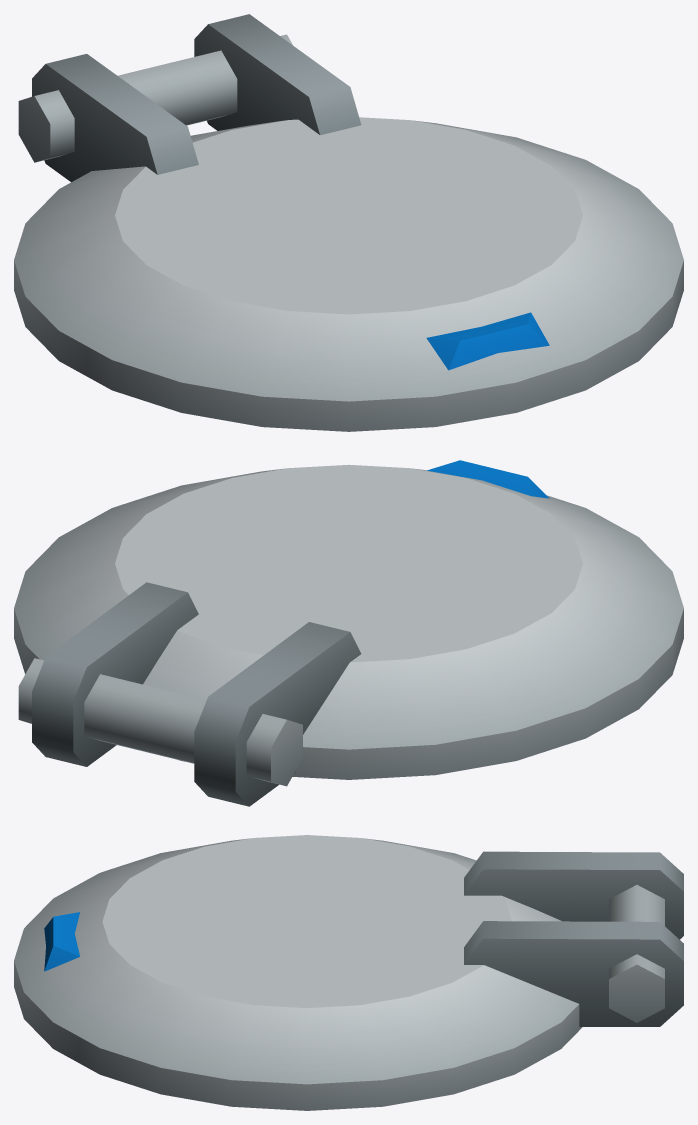
File: Hatch_001_door_001.fbx
3 renders of one model, top to bottom at view 1: azimuth 30°, elevation 25°; view 2: azimuth 150°, elevation 25°; view 3: azimuth 270°, elevation 25°, orthographic. The views are drawn at different scales.
Visible parts, largest first — view 1: Hatch_001_door_001; view 2: Hatch_001_door_001; view 3: Hatch_001_door_001.
Boxes of the visible parts, x1,y1,x2,y2 form: Hatch_001_door_001: [14, 14, 683, 431]; Hatch_001_door_001: [14, 460, 683, 806]; Hatch_001_door_001: [14, 835, 683, 1110].
Size of the model in its own units: 80 by 91.37 by 17.28.
